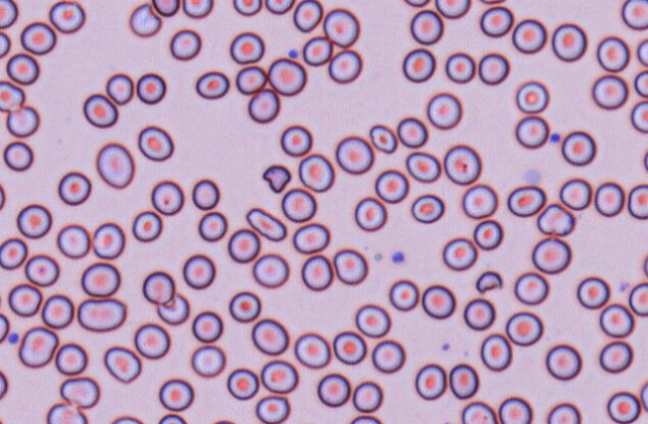PLT: (390, 250, 406, 264), (549, 130, 563, 145), (7, 331, 20, 345), (286, 48, 298, 60)
RBC: (77, 297, 127, 332), (96, 142, 134, 188), (18, 326, 58, 368), (443, 144, 481, 185), (267, 57, 306, 96), (335, 135, 374, 174), (531, 236, 571, 274), (103, 346, 141, 383), (298, 153, 334, 192), (323, 8, 359, 47), (551, 22, 587, 61), (80, 262, 120, 297), (245, 207, 286, 241), (251, 318, 288, 355), (426, 92, 462, 129), (134, 322, 170, 359), (545, 343, 581, 380), (505, 311, 543, 346), (59, 376, 100, 408), (137, 125, 173, 161), (461, 183, 497, 219), (294, 332, 330, 368), (252, 253, 289, 288), (591, 74, 628, 109), (260, 359, 298, 393), (536, 203, 575, 236), (82, 93, 118, 128), (561, 130, 596, 166), (333, 248, 367, 285), (506, 185, 545, 217), (281, 187, 316, 222), (16, 203, 51, 238), (511, 18, 546, 53), (354, 303, 390, 337), (20, 21, 56, 55), (92, 222, 125, 259), (596, 35, 629, 72), (7, 283, 42, 317), (513, 271, 548, 305), (56, 223, 90, 258), (332, 330, 366, 365), (57, 170, 91, 205), (316, 372, 350, 407), (599, 303, 634, 337), (421, 284, 455, 319), (41, 293, 74, 329), (49, 0, 85, 33), (182, 253, 215, 289), (158, 378, 194, 411), (151, 179, 184, 215), (301, 254, 333, 291), (414, 363, 446, 400), (292, 222, 329, 254), (480, 333, 511, 371), (374, 169, 408, 203), (371, 339, 405, 373), (328, 49, 362, 83), (24, 253, 59, 286), (142, 270, 175, 305), (190, 344, 225, 377), (247, 88, 280, 123), (227, 228, 260, 263), (229, 31, 264, 64), (410, 9, 443, 44), (442, 237, 477, 270), (514, 115, 549, 148), (128, 3, 161, 37), (599, 340, 633, 373), (576, 276, 610, 309), (515, 80, 549, 113), (402, 48, 435, 82), (405, 151, 440, 183), (354, 196, 386, 231), (54, 342, 87, 375), (6, 52, 39, 85), (226, 367, 259, 400), (606, 391, 640, 423), (448, 363, 478, 399), (594, 181, 624, 217), (6, 105, 39, 137), (228, 290, 261, 322), (463, 297, 495, 330), (559, 177, 591, 210), (479, 6, 513, 37), (191, 310, 223, 342), (280, 124, 312, 156), (169, 28, 201, 60), (478, 52, 509, 85), (410, 193, 444, 223), (255, 395, 290, 424), (352, 380, 383, 412), (131, 210, 162, 242), (388, 279, 419, 311), (396, 116, 427, 148), (195, 70, 229, 99), (136, 72, 166, 104), (497, 396, 532, 423), (3, 140, 33, 171), (473, 219, 503, 250), (445, 52, 475, 83), (293, 0, 322, 32), (235, 65, 267, 94), (105, 72, 133, 105), (46, 402, 87, 424), (302, 36, 332, 66), (198, 211, 227, 242), (191, 178, 219, 210), (0, 237, 27, 269), (621, 0, 648, 30), (461, 401, 496, 424), (0, 80, 25, 112), (546, 402, 581, 424), (627, 183, 648, 219), (628, 282, 648, 316), (434, 0, 470, 18), (630, 100, 648, 133), (182, 0, 213, 18), (0, 0, 18, 28), (232, 0, 261, 16), (151, 0, 179, 16), (264, 0, 294, 14), (634, 69, 648, 98), (636, 38, 648, 66), (108, 415, 145, 424), (157, 413, 187, 424), (348, 414, 382, 423), (0, 30, 10, 58), (0, 312, 9, 343), (640, 380, 648, 412), (0, 369, 8, 400), (403, 0, 430, 7), (0, 182, 6, 211), (209, 418, 237, 424), (643, 251, 648, 278), (643, 147, 648, 174), (478, 0, 507, 4), (433, 421, 457, 424)
Schistocyte: (157, 294, 189, 325), (262, 163, 292, 194), (369, 124, 396, 155), (475, 270, 503, 295)
